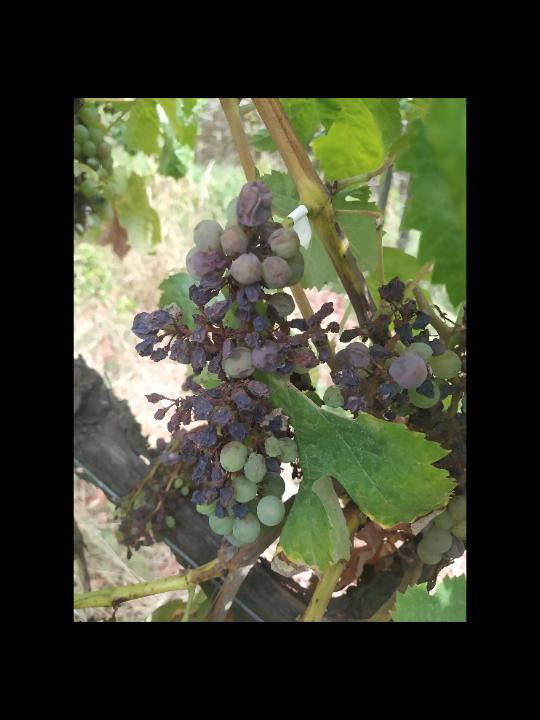grape: (130, 175, 308, 551), (328, 276, 464, 564)
